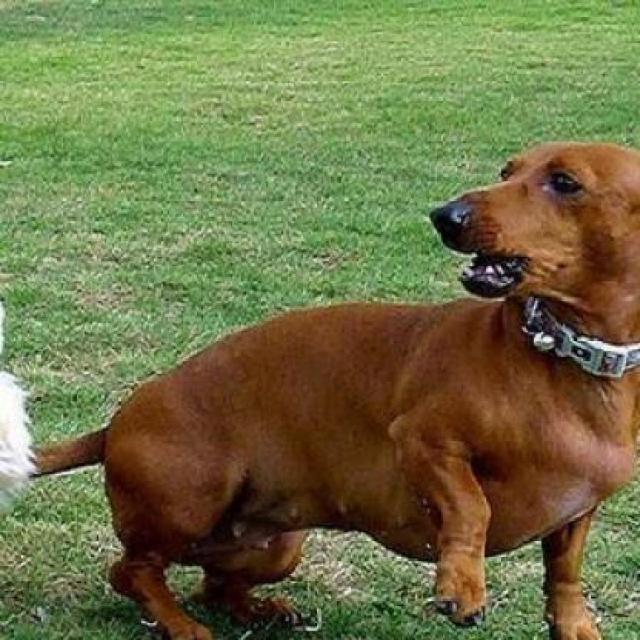Dog: (1, 138, 638, 638)
